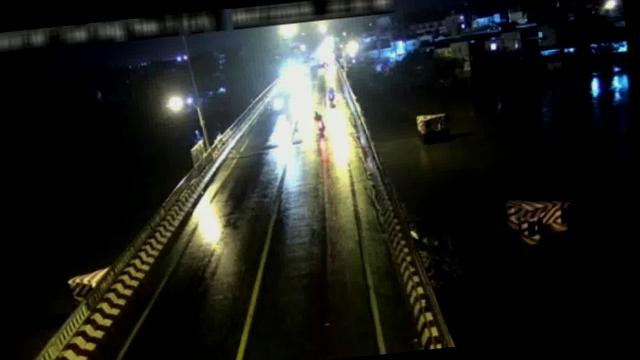Bike: (312, 109, 326, 134), (326, 87, 338, 106)
